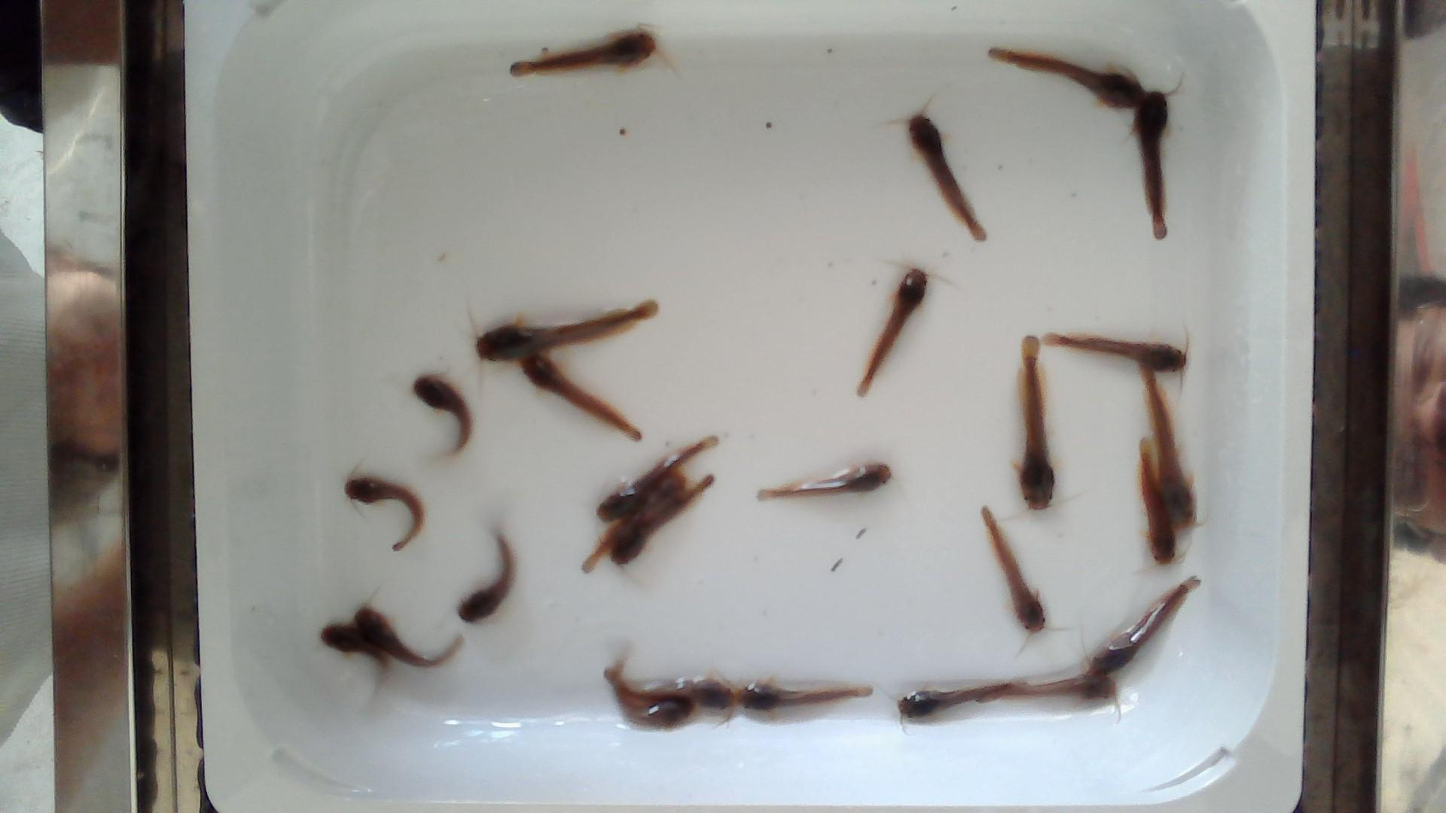lele: (1088, 578, 1201, 678), (476, 300, 658, 362), (582, 473, 687, 573), (598, 436, 718, 523), (521, 355, 642, 440), (910, 113, 987, 241), (1138, 364, 1197, 530), (989, 48, 1145, 109), (610, 475, 715, 565), (857, 268, 925, 395), (981, 506, 1045, 633), (511, 30, 657, 78), (354, 606, 463, 668), (344, 475, 424, 552), (1020, 334, 1055, 509), (1042, 333, 1187, 373), (603, 667, 735, 710), (459, 531, 518, 622), (1134, 91, 1168, 240), (758, 464, 888, 501), (1141, 437, 1176, 567), (414, 376, 471, 455), (732, 682, 874, 711), (898, 683, 1012, 719), (976, 676, 1115, 703), (321, 624, 392, 671), (616, 691, 694, 728)
